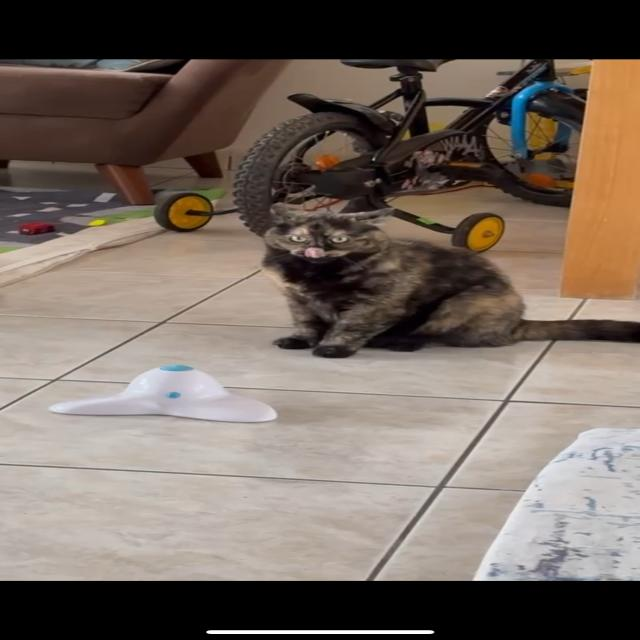authorized: (259, 202, 639, 358)
